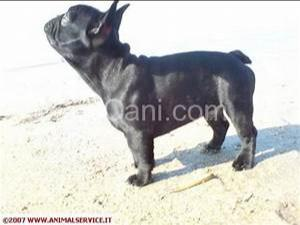dog: (43, 0, 258, 186)
